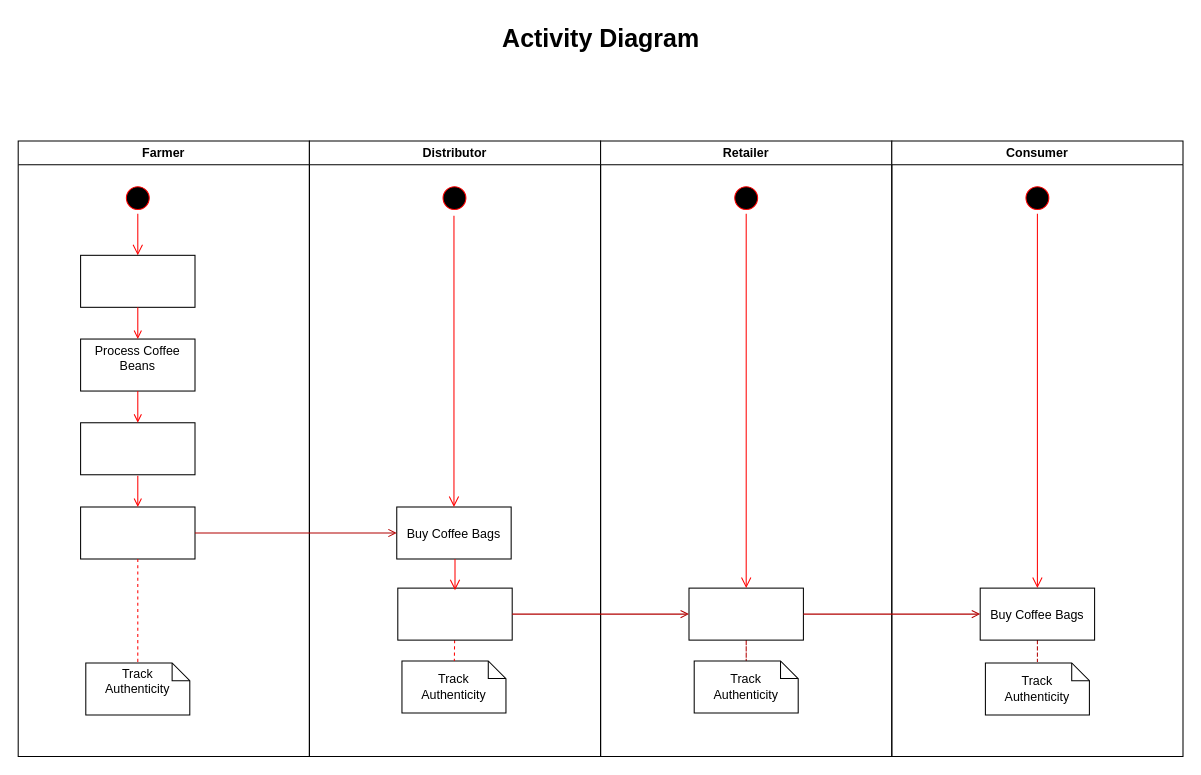
The diagram is 1201 pixels wide and 775 high, and some of its shapes have lost their labels. Each missing label, with the centre of its shape:
Harvest Coffee Beans: pixel 137 280
Pack Coffee Pallettes: pixel 137 448
Receive Coffee Pallettes: pixel 745 613
Set Coffee Pallettes for Sale: pixel 137 532
Ship Coffee Pallettes: pixel 454 613
